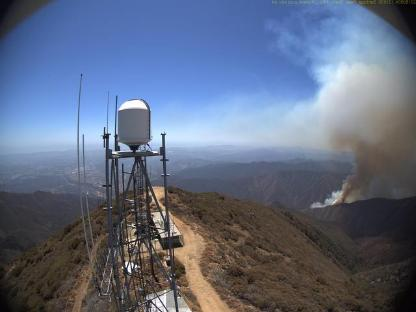smoke: (306, 43, 416, 210)
